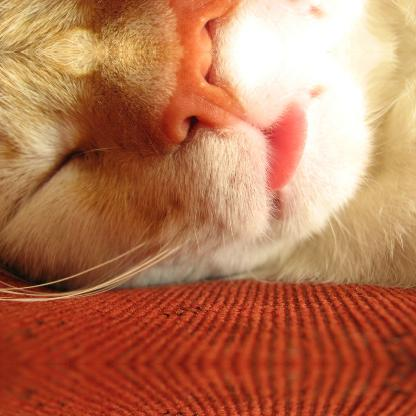Cat: (0, 52, 415, 303), (0, 0, 415, 53)
